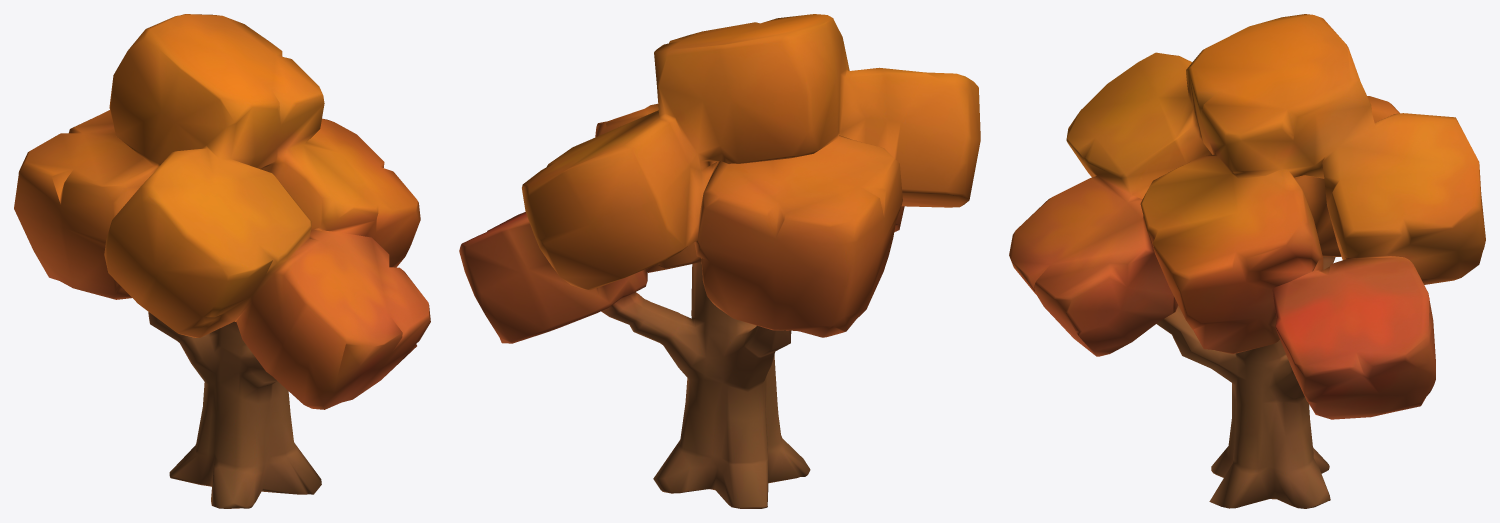
The model's file is tripo_raw.glb.
3 renders of one model, left to right at view 1: azimuth 30°, elevation 25°; view 2: azimuth 150°, elevation 25°; view 3: azimuth 270°, elevation 25°, orthographic. The views are drawn at different scales.
Parts seen in each view (by area): view 1: tripo_node_d648f6fe-81da-4b27-a1ed-ff725e71faba; view 2: tripo_node_d648f6fe-81da-4b27-a1ed-ff725e71faba; view 3: tripo_node_d648f6fe-81da-4b27-a1ed-ff725e71faba.
Part boxes in pixels (bbox=[...]): tripo_node_d648f6fe-81da-4b27-a1ed-ff725e71faba: bbox=[14, 14, 430, 508]; tripo_node_d648f6fe-81da-4b27-a1ed-ff725e71faba: bbox=[459, 14, 980, 508]; tripo_node_d648f6fe-81da-4b27-a1ed-ff725e71faba: bbox=[1009, 14, 1485, 508].
Bounding box in the file's own units: 0.8591 × 1 × 0.9922.
1 material, 1 textured.
